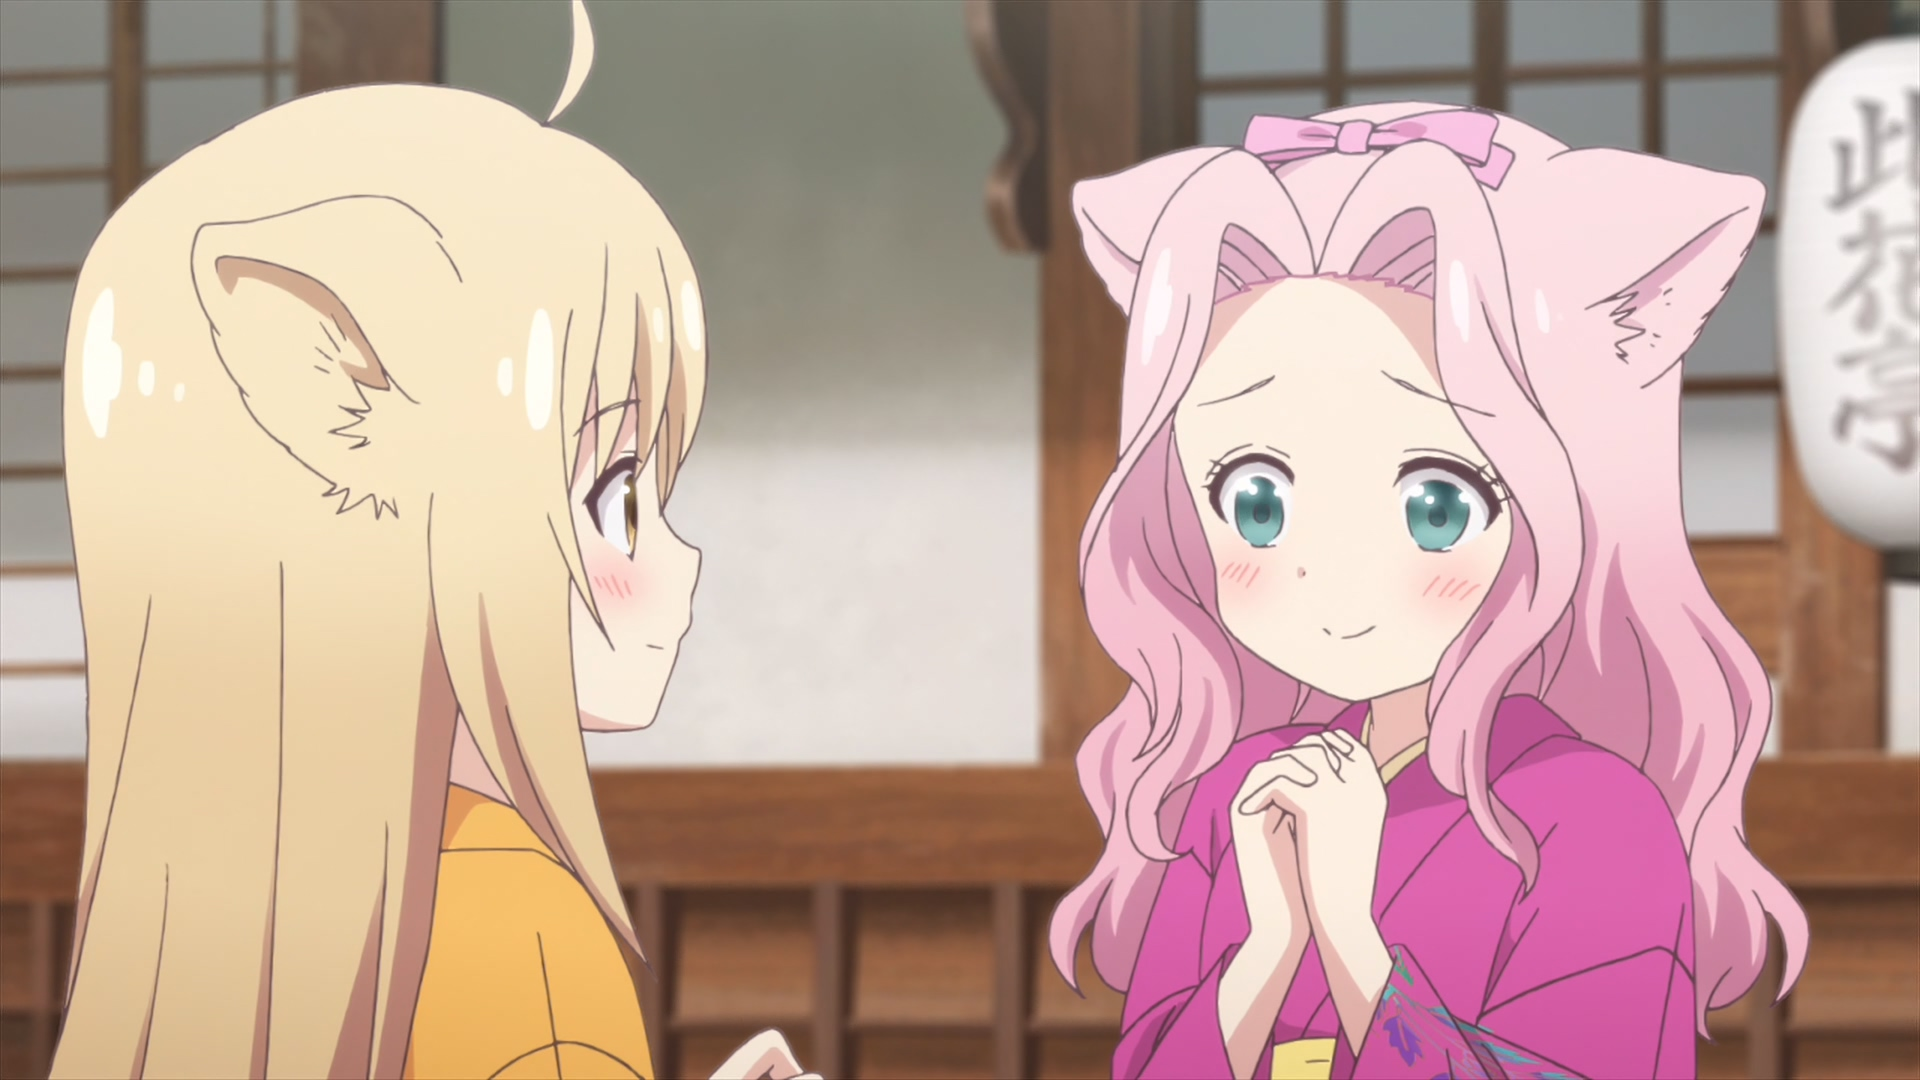柚: (49, 1, 824, 1080)
莲: (1048, 100, 1811, 1080)
